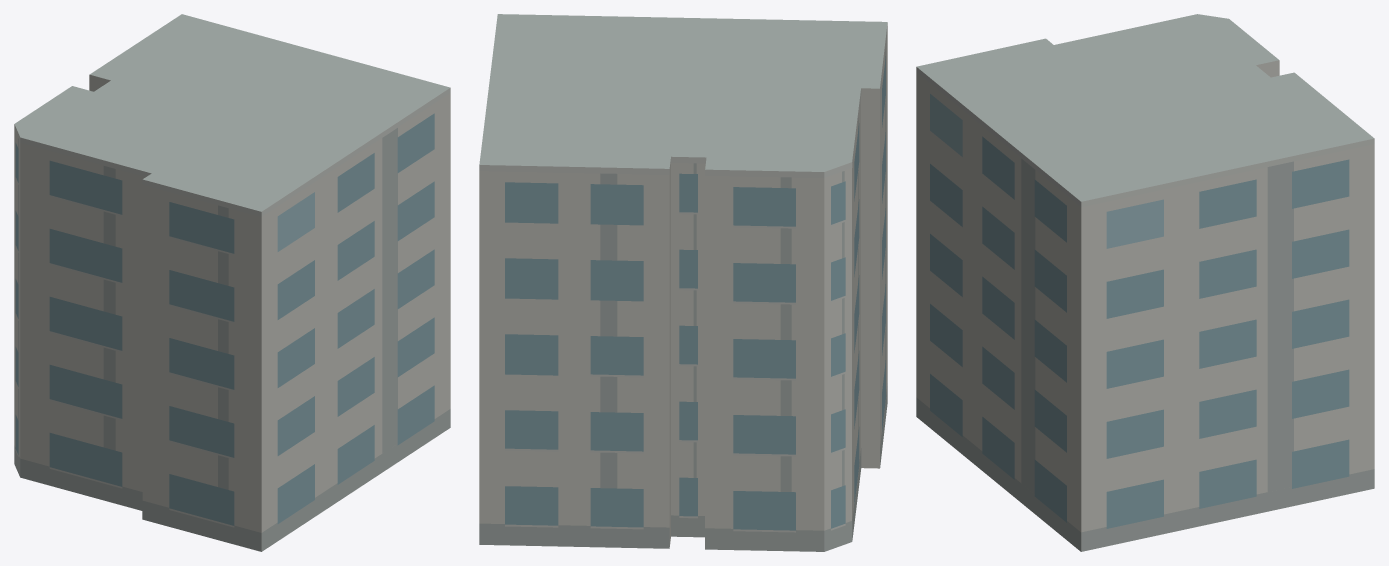
File: survey-upis-32889309.glb
The picture shows the model from 3 angles, left to right: view 1: azimuth 30°, elevation 25°; view 2: azimuth 150°, elevation 25°; view 3: azimuth 270°, elevation 25°; orthographic projection. The views are drawn at different scales.
Visible parts, largest first — view 1: survey-upis-32889309.tmp; view 2: survey-upis-32889309.tmp; view 3: survey-upis-32889309.tmp.
Boxes of the visible parts, <box> form: survey-upis-32889309.tmp: <box>14,14,450,551</box>; survey-upis-32889309.tmp: <box>479,14,887,551</box>; survey-upis-32889309.tmp: <box>916,14,1374,551</box>.
Size of the model in its own units: 17.67 by 15.35 by 18.22.
